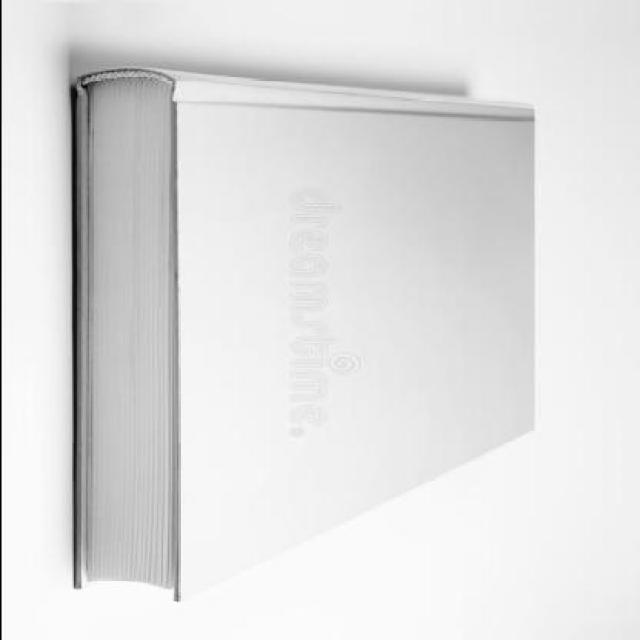book: (65, 28, 612, 614)
